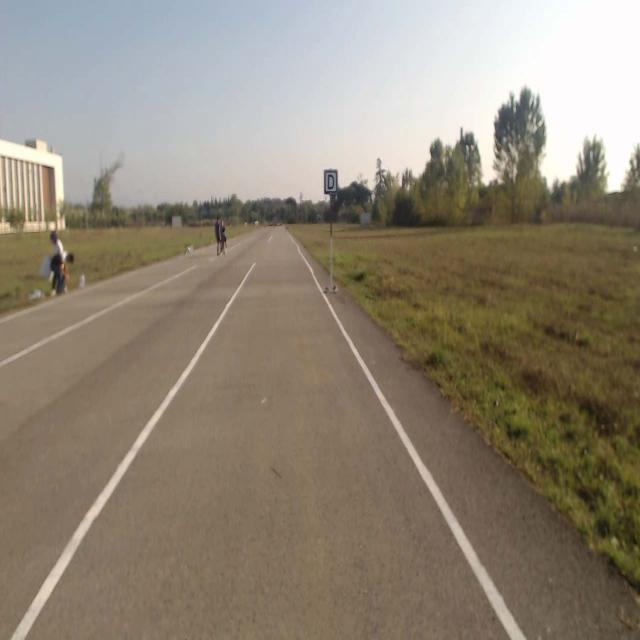durak: (324, 169, 336, 195)
